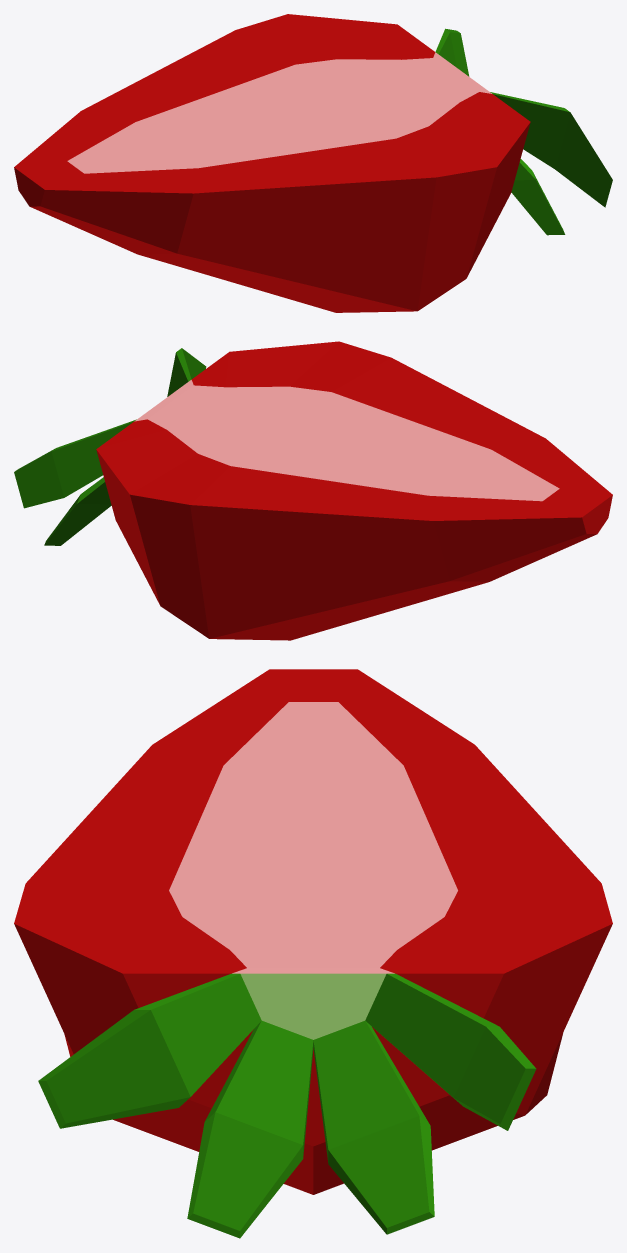
File: strawberry02.gltf
3 renders of one model, top to bottom at view 1: azimuth 30°, elevation 25°; view 2: azimuth 150°, elevation 25°; view 3: azimuth 270°, elevation 25°, orthographic. The views are drawn at different scales.
Parts seen in each view (by area): view 1: Cylinder.001; view 2: Cylinder.001; view 3: Cylinder.001.
Part boxes in pixels (x1,y1,x2,y2): Cylinder.001: (14,14,612,312); Cylinder.001: (14,341,612,640); Cylinder.001: (14,669,612,1238).
Bounding box in the file's own units: 0.0483 × 0.0189 × 0.0342.
Materials: 1 (1 with a texture image).
